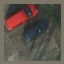car: (5, 5, 37, 30), (23, 23, 46, 43)
